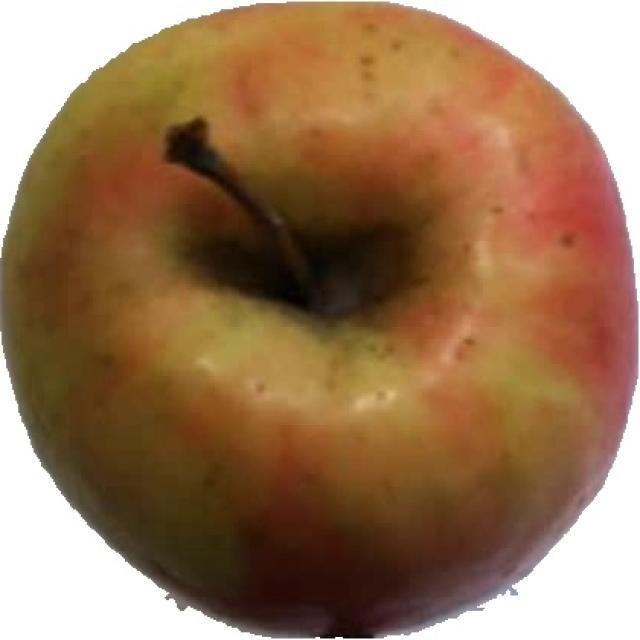apple: (3, 4, 636, 636)
